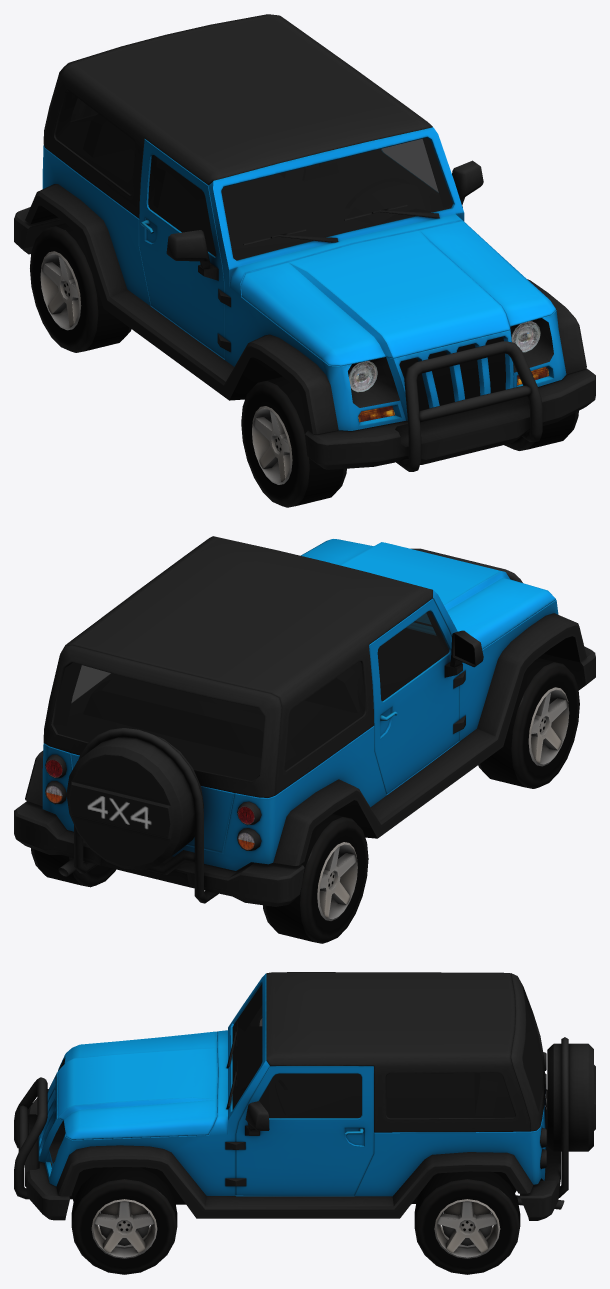
File: Offroad.FBX
3 renders of one model, top to bottom at view 1: azimuth 30°, elevation 25°; view 2: azimuth 150°, elevation 25°; view 3: azimuth 270°, elevation 25°, orthographic. The views are drawn at different scales.
Parts seen in each view (by area): view 1: Offroad Body, Wheel_G001, Wheel_G002, Wheel_G; view 2: Offroad Body, Wheel_G001 (×2), Wheel_G002; view 3: Offroad Body, Wheel_G, Wheel_G001.
Part boxes in pixels (x1,y1,x2,y2): Offroad Body: (14, 14, 595, 471); Wheel_G001: (241, 376, 346, 507); Wheel_G002: (30, 223, 131, 352); Wheel_G: (504, 411, 578, 450); Offroad Body: (14, 536, 595, 906); Wheel_G001 (×2): (31, 658, 579, 887); Wheel_G002: (263, 814, 368, 943); Offroad Body: (14, 972, 595, 1220); Wheel_G: (71, 1167, 177, 1274); Wheel_G001: (414, 1171, 520, 1274).
Size of the model in its own units: 2206 by 1766 by 4433.
Materials: 4 (3 with a texture image).
